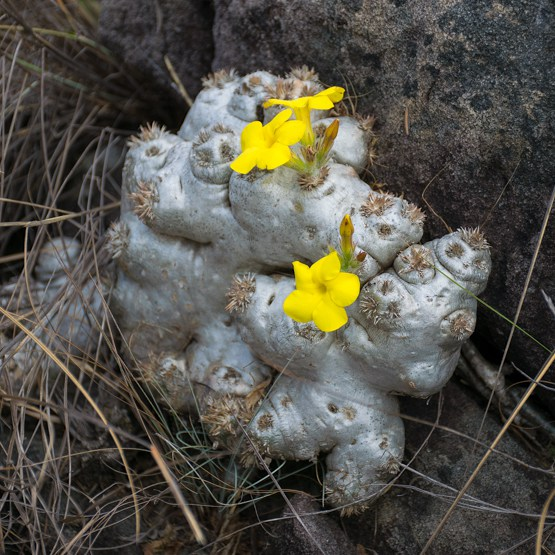Pachypodium brevicaule: (65, 59, 516, 510)
